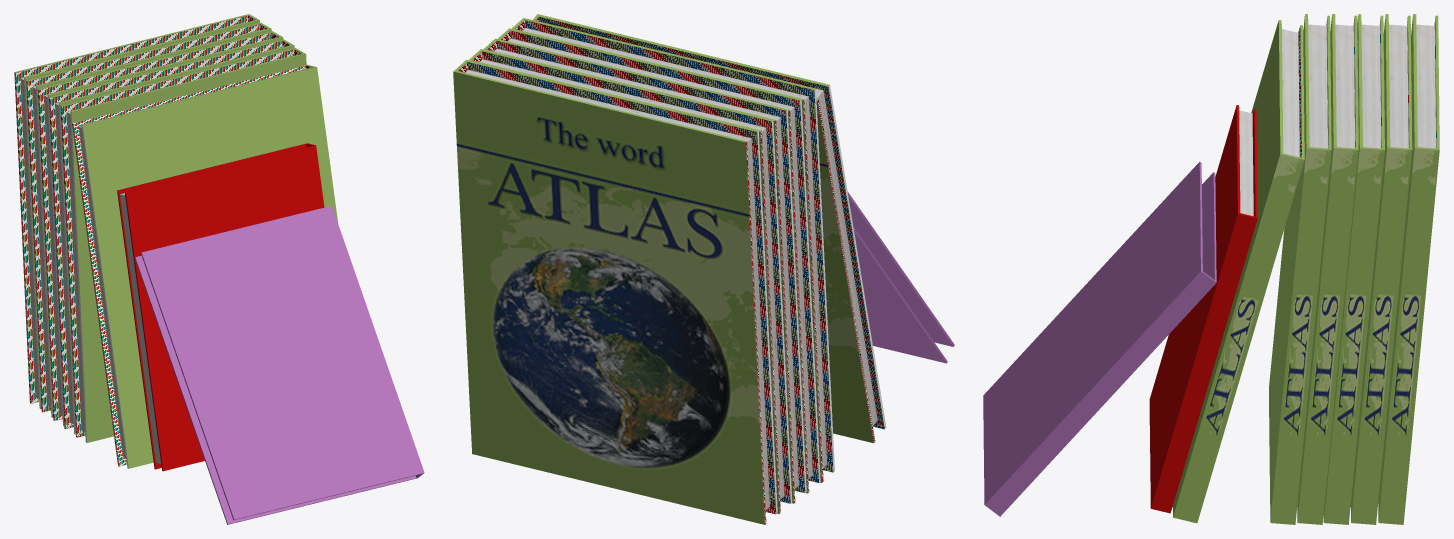
The model's file is Books 1.FBX.
3 renders of one model, left to right at view 1: azimuth 30°, elevation 25°; view 2: azimuth 150°, elevation 25°; view 3: azimuth 270°, elevation 25°, orthographic. The views are drawn at different scales.
Parts seen in each view (by area): view 1: Books 1; view 2: Books 1; view 3: Books 1.
Part boxes in pixels (<box>): Books 1: <box>14,14,424,524</box>; Books 1: <box>453,14,954,524</box>; Books 1: <box>983,14,1439,524</box>.
Bounding box in the file's own units: 23.25 × 30.5 × 33.25.
Materials: 1 (1 with a texture image).
